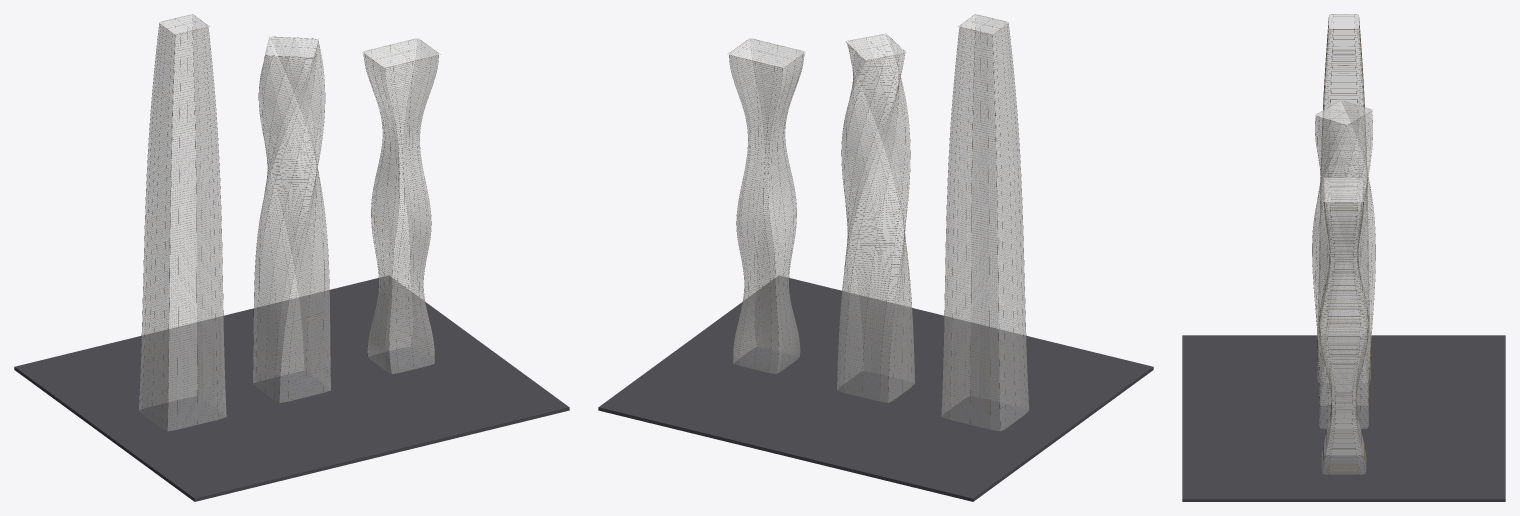
3 renders of one model, left to right at view 1: azimuth 30°, elevation 25°; view 2: azimuth 150°, elevation 25°; view 3: azimuth 270°, elevation 25°, orthographic. The views are drawn at different scales.
Size of the model in its own units: 120 by 120 by 100.
